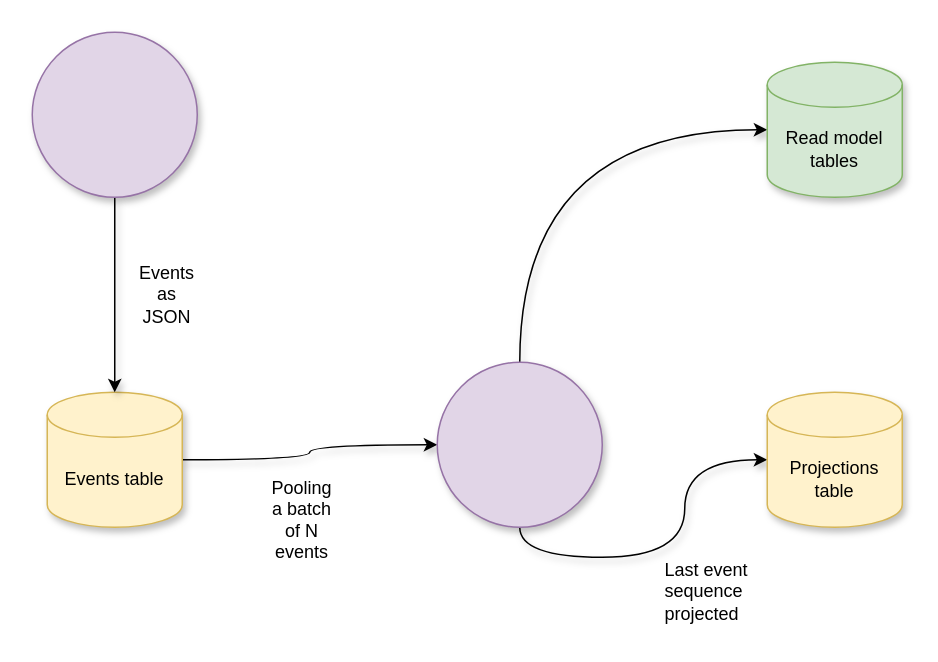
Some shapes in this 938 by 662 pixel diagram are drawn without their labels. Here are the shapes that lost their labels. From the top down, the centre of each, then its label:
At point 115,116: "Command Controller".
At point 520,446: "EventsProjector Verticle".
